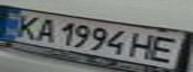1: (51, 19, 75, 47)
4: (106, 28, 130, 56)
9: (69, 21, 93, 50), (87, 25, 109, 53)
A: (30, 16, 60, 43)
E: (145, 34, 187, 64)
H: (124, 30, 163, 61)
K: (6, 12, 45, 39)
